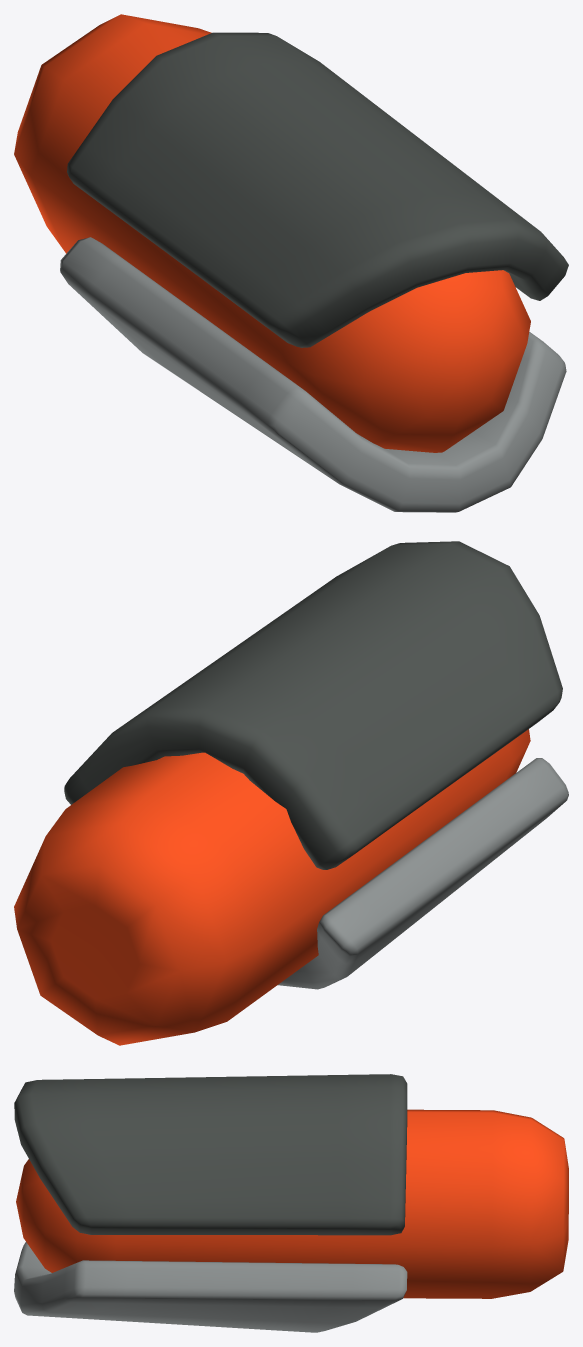
Rendered from xsens_RightFifthPP.dae.
The picture shows the model from 3 angles, top to bottom: view 1: azimuth 30°, elevation 25°; view 2: azimuth 150°, elevation 25°; view 3: azimuth 270°, elevation 25°; orthographic projection. The views are drawn at different scales.
Parts seen in each view (by area): view 1: RightFifthPP; view 2: RightFifthPP; view 3: RightFifthPP.
Part boxes in pixels (x1,y1,x2,y2): RightFifthPP: (14,14,568,512); RightFifthPP: (14,541,568,1045); RightFifthPP: (14,1074,568,1332).
Bounding box in the file's own units: 0.0189 × 0.0404 × 0.0189.
